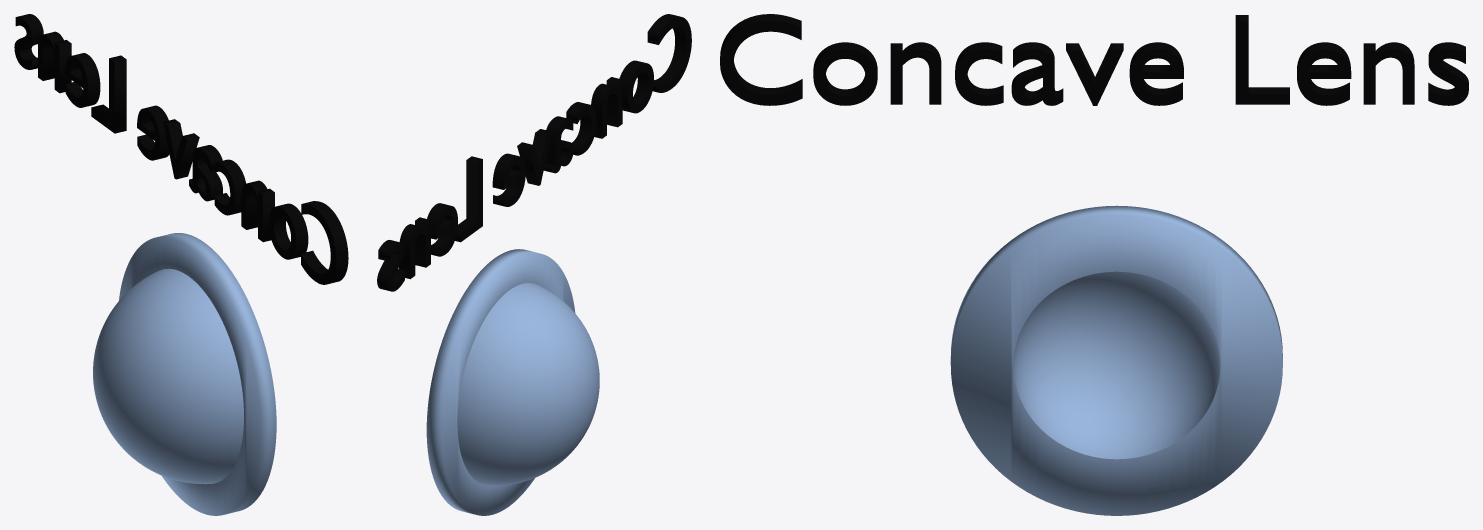
File: concave lense1.gltf
The picture shows the model from 3 angles, left to right: view 1: azimuth 30°, elevation 25°; view 2: azimuth 150°, elevation 25°; view 3: azimuth 270°, elevation 25°; orthographic projection. The views are drawn at different scales.
Parts seen in each view (by area): view 1: group_1, Text, group_1.001; view 2: group_1, Text, group_1.001; view 3: group_1.001, group_1.002, Text.
Boxes of the visible parts, x1,y1,x2,y2 form: group_1: (93,268,243,484); Text: (14,14,348,284); group_1.001: (119,233,276,515); group_1: (457,283,599,485); Text: (377,14,691,291); group_1.001: (426,249,575,515); group_1.001: (950,205,1282,515); group_1.002: (1013,271,1220,459); Text: (720,14,1468,105).
Bounding box in the file's own units: 0.6276 × 2.54 × 3.6.
